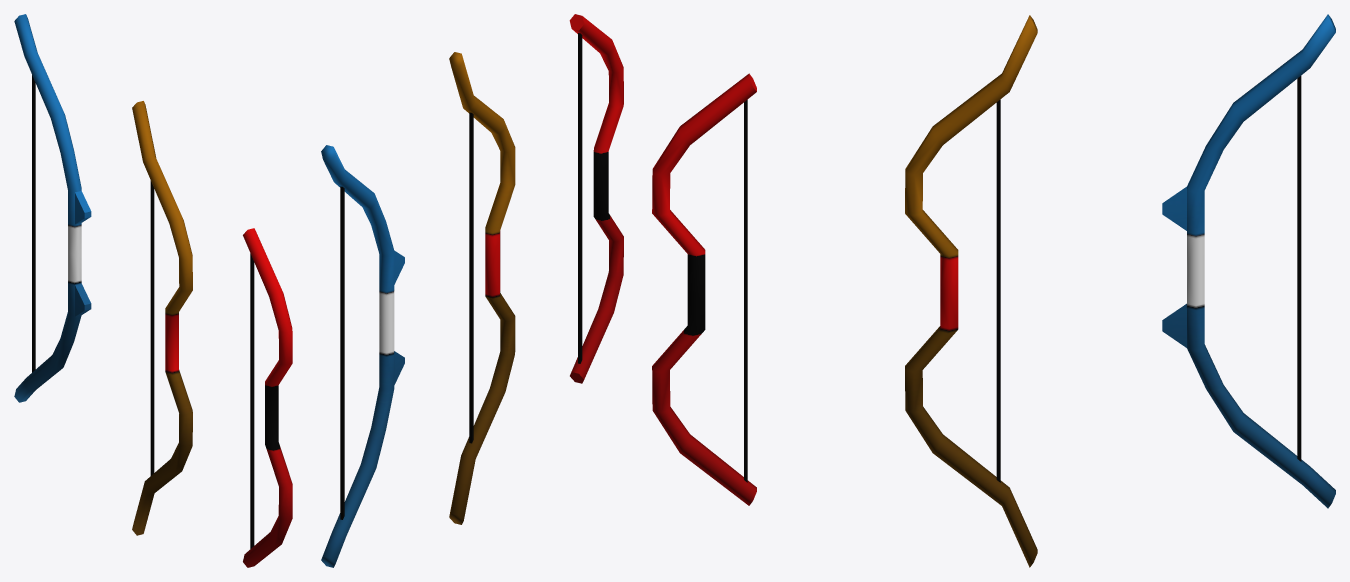
File: BowPack.FBX
3 renders of one model, left to right at view 1: azimuth 30°, elevation 25°; view 2: azimuth 150°, elevation 25°; view 3: azimuth 270°, elevation 25°, orthographic. The views are drawn at different scales.
Visible parts, largest first — view 1: BattleBow, WarBow, HunterBow; view 2: BattleBow, WarBow, HunterBow; view 3: WarBow, BattleBow, HunterBow.
Boxes of the visible parts, bbox=[...] form: BattleBow: bbox=[132, 101, 192, 535]; WarBow: bbox=[14, 14, 91, 402]; HunterBow: bbox=[243, 228, 292, 567]; BattleBow: bbox=[449, 52, 515, 524]; WarBow: bbox=[321, 145, 404, 567]; HunterBow: bbox=[569, 14, 623, 383]; WarBow: bbox=[1162, 14, 1335, 508]; BattleBow: bbox=[905, 15, 1037, 567]; HunterBow: bbox=[652, 73, 756, 505].
Size of the model in its own units: 3.65 by 105 by 118.
